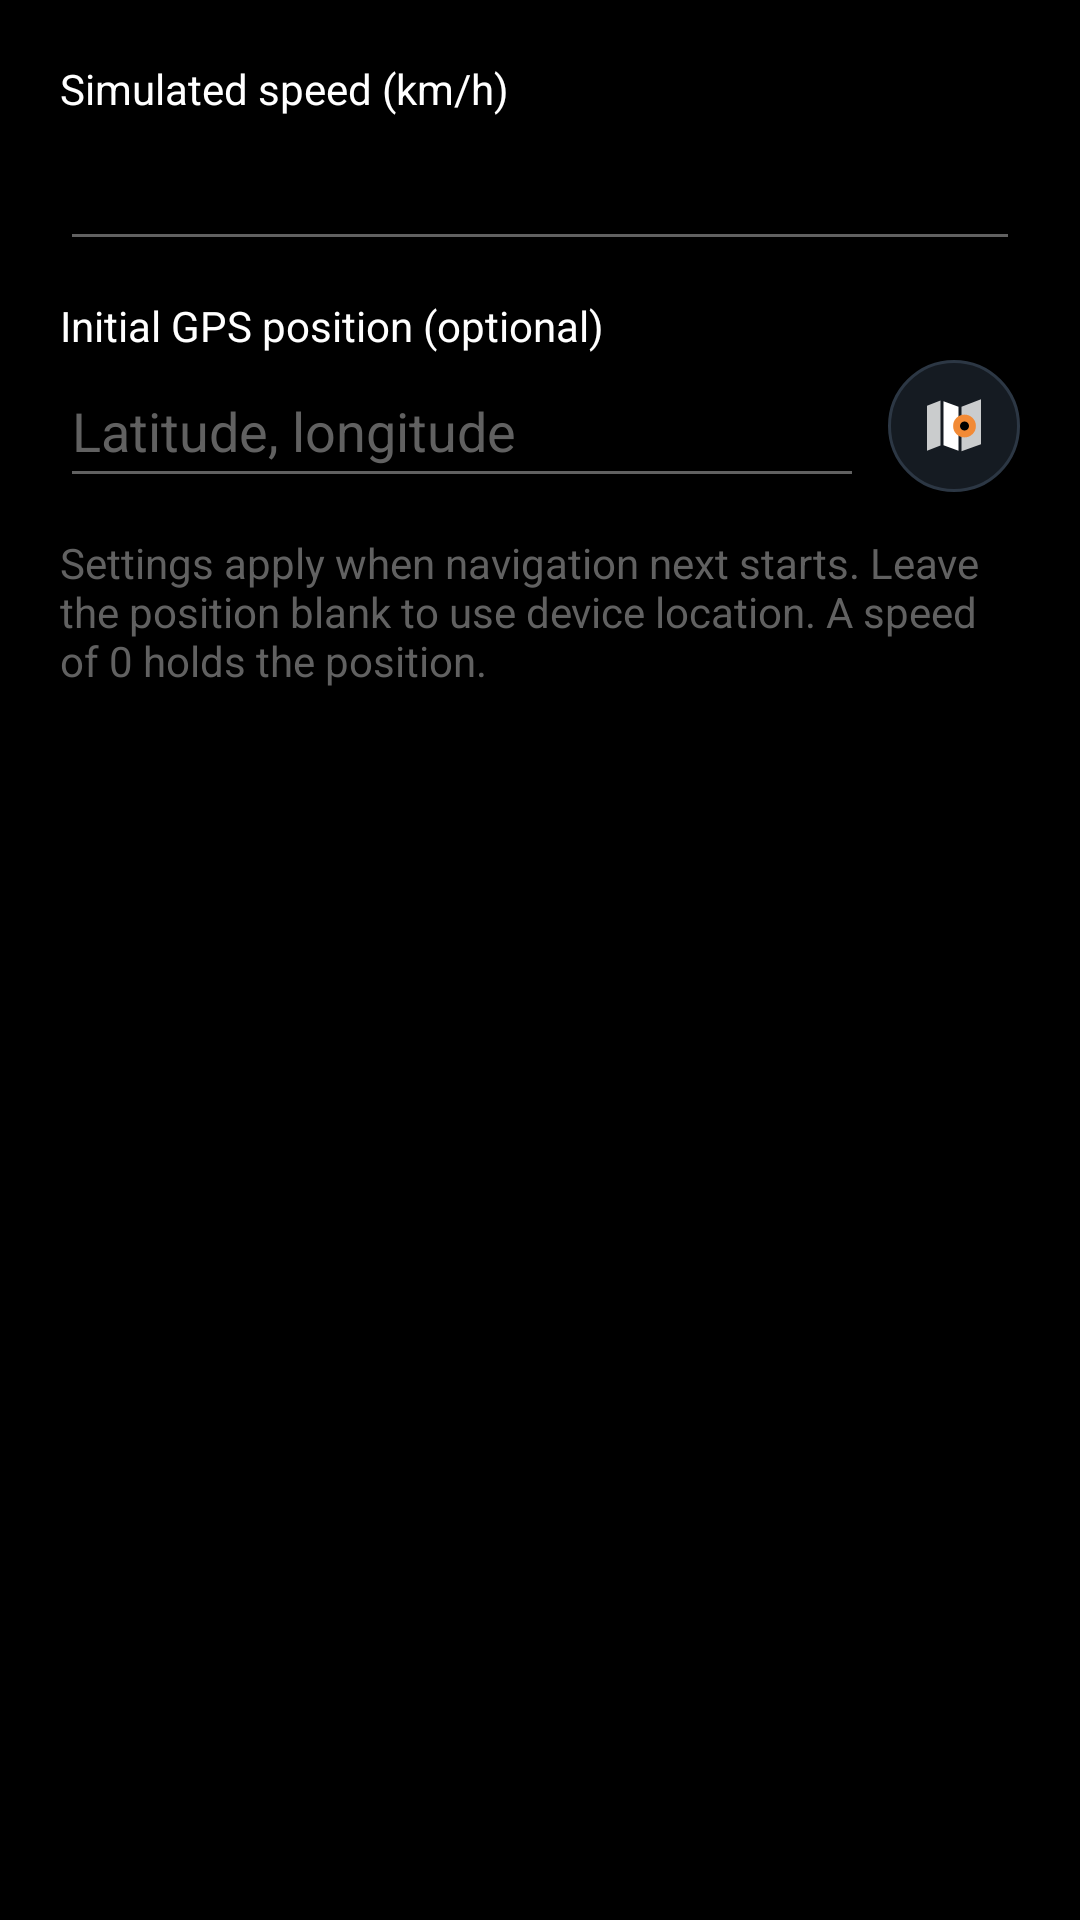

Icon click points for this 1080*1920 phone screenshot, format point (x, y):
Map: point (954, 426)
